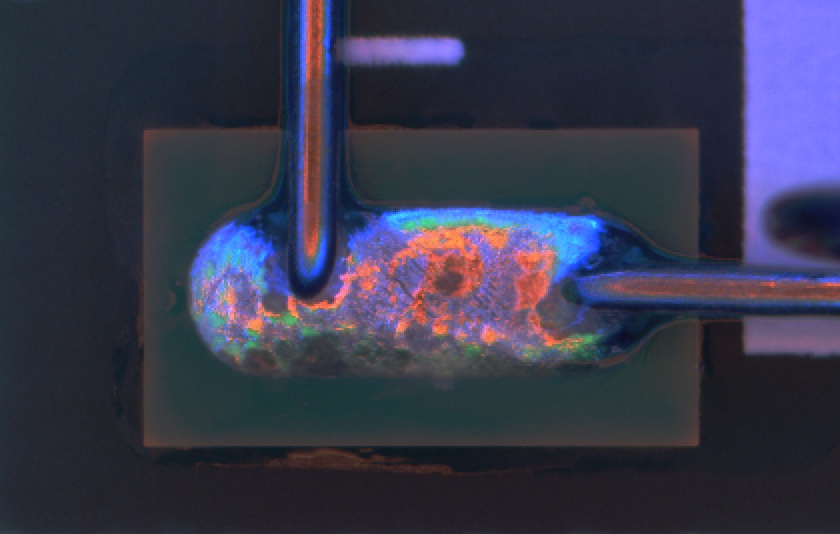spring: (271, 1, 351, 312), (555, 263, 840, 322)
spring_pin: (187, 204, 650, 368)
